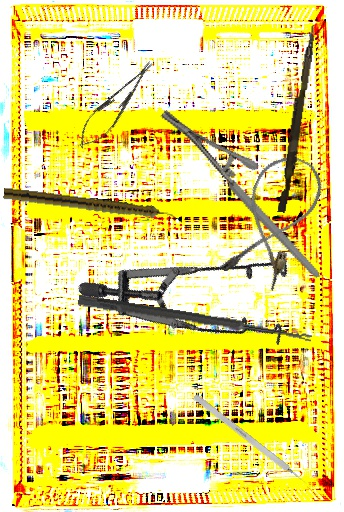Cannula: (216, 146, 331, 294)
Handpiece: (2, 187, 178, 224)
Hook Surgical: (192, 393, 313, 490)
Needle Holder: (158, 79, 321, 310), (70, 54, 162, 156)
Pusher: (277, 23, 317, 214)
Speculum: (74, 168, 322, 406)
Surgical Spoon: (77, 294, 313, 344)
